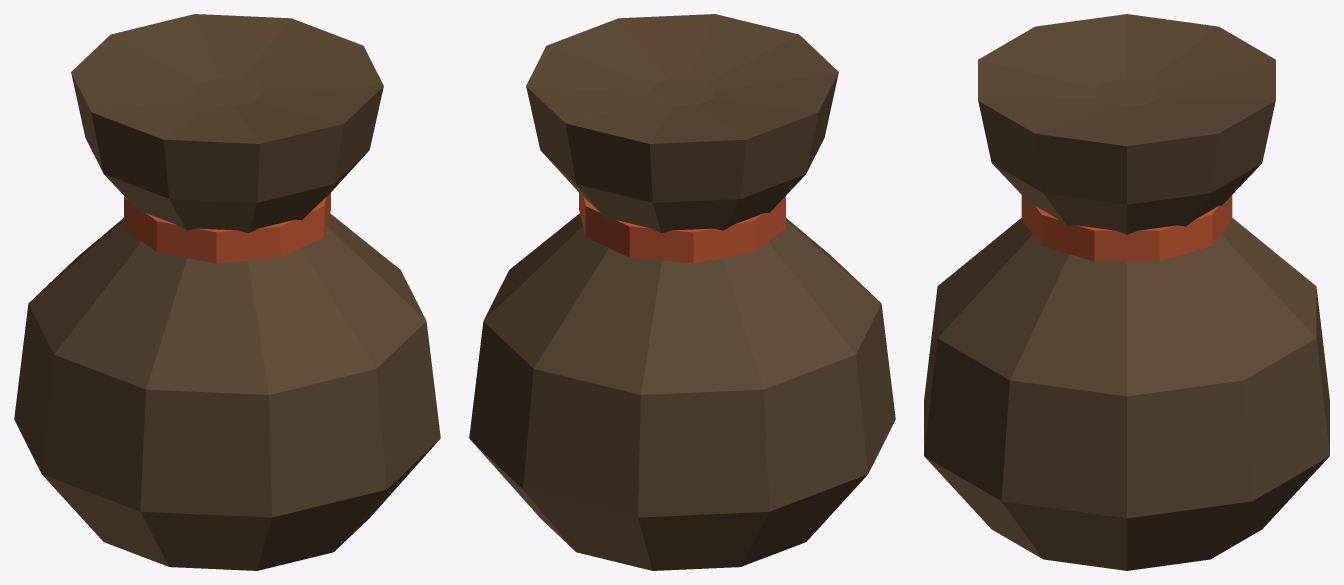
Rendered from MarketPouch.fbx.
The picture shows the model from 3 angles, left to right: view 1: azimuth 30°, elevation 25°; view 2: azimuth 150°, elevation 25°; view 3: azimuth 270°, elevation 25°; orthographic projection.
Parts seen in each view (by area): view 1: MarketPouch; view 2: MarketPouch; view 3: MarketPouch.
Part boxes in pixels (left/top/right/bottom): MarketPouch: left=14, top=14, right=440, bottom=570; MarketPouch: left=469, top=14, right=895, bottom=570; MarketPouch: left=924, top=14, right=1329, bottom=570.
Size of the model in its own units: 15 by 17.5 by 14.27.
2 materials, 2 textured.
